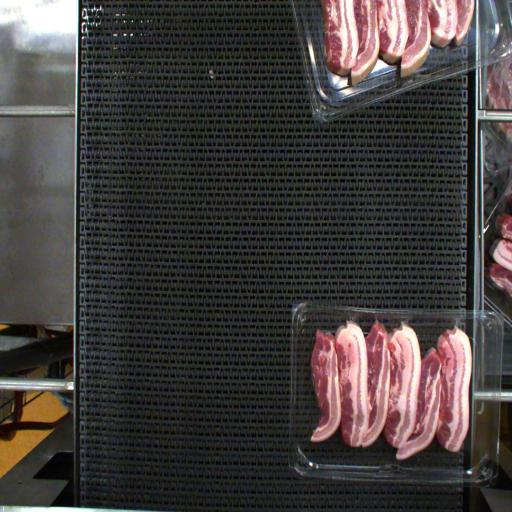packaging-error: (394, 307, 418, 338)
